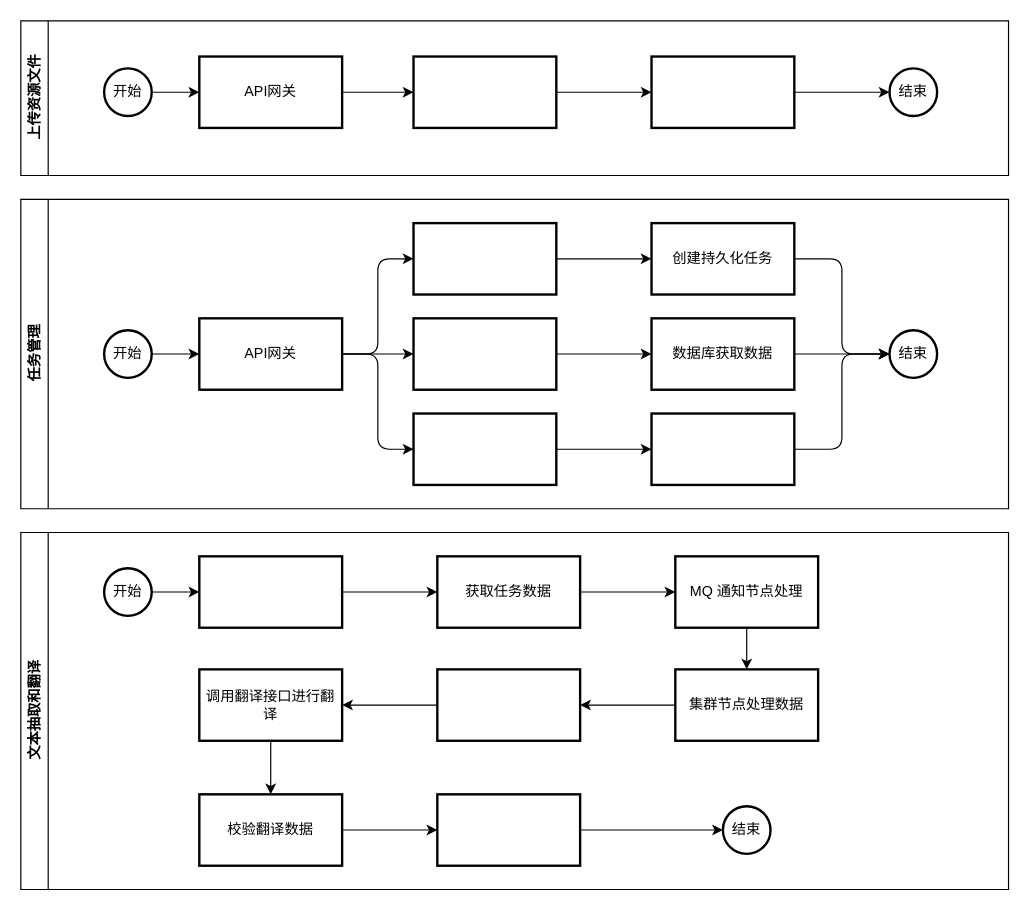
The diagram is 1029 pixels wide and 910 high, and some of its shapes have lost their labels. Each missing label, with the centre of its shape:
上传音频文件: (484,92)
任务管理服务: (270,591)
创建转换任务: (484,258)
删除转换任务: (484,449)
回掉接口返回数据: (508,704)
存储文件到OSS: (722,92)
持久化翻译数据: (508,829)
查询转换任务: (484,353)
清理文件: (722,449)
